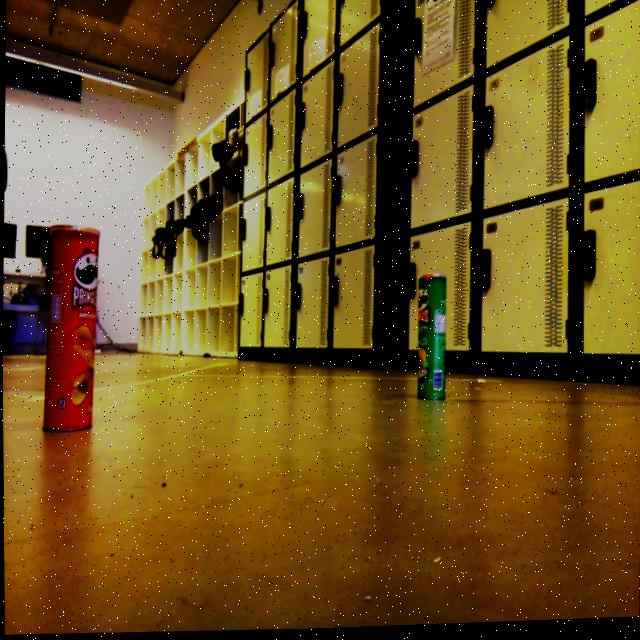greenpringles: (408, 255, 462, 436)
redpringles: (28, 199, 125, 452)
